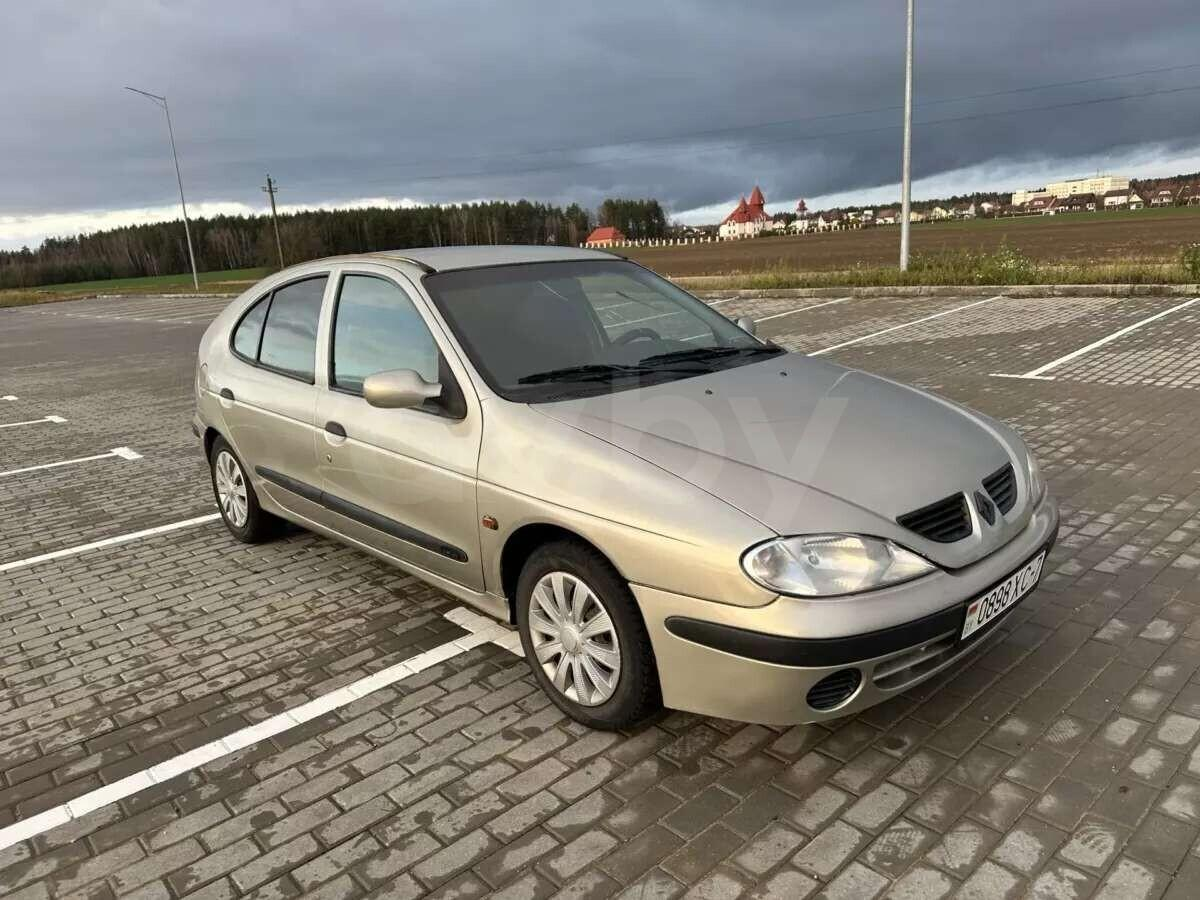Megane_1999-2003: (189, 243, 1054, 726)
